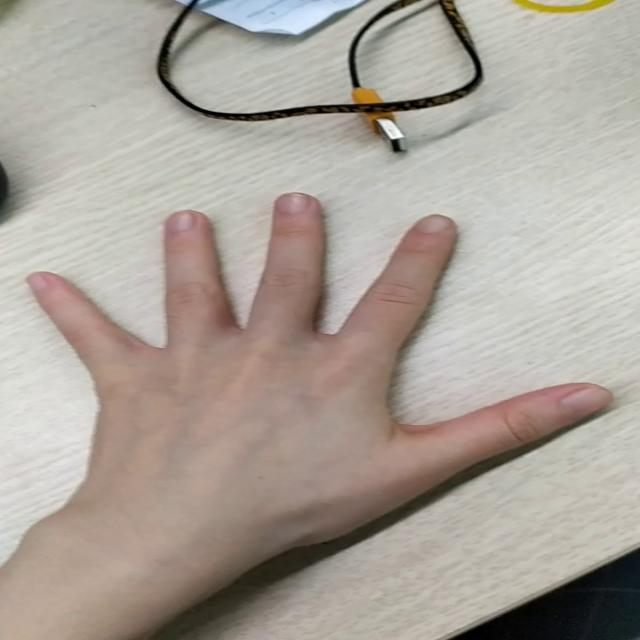hand: (24, 194, 615, 512)
